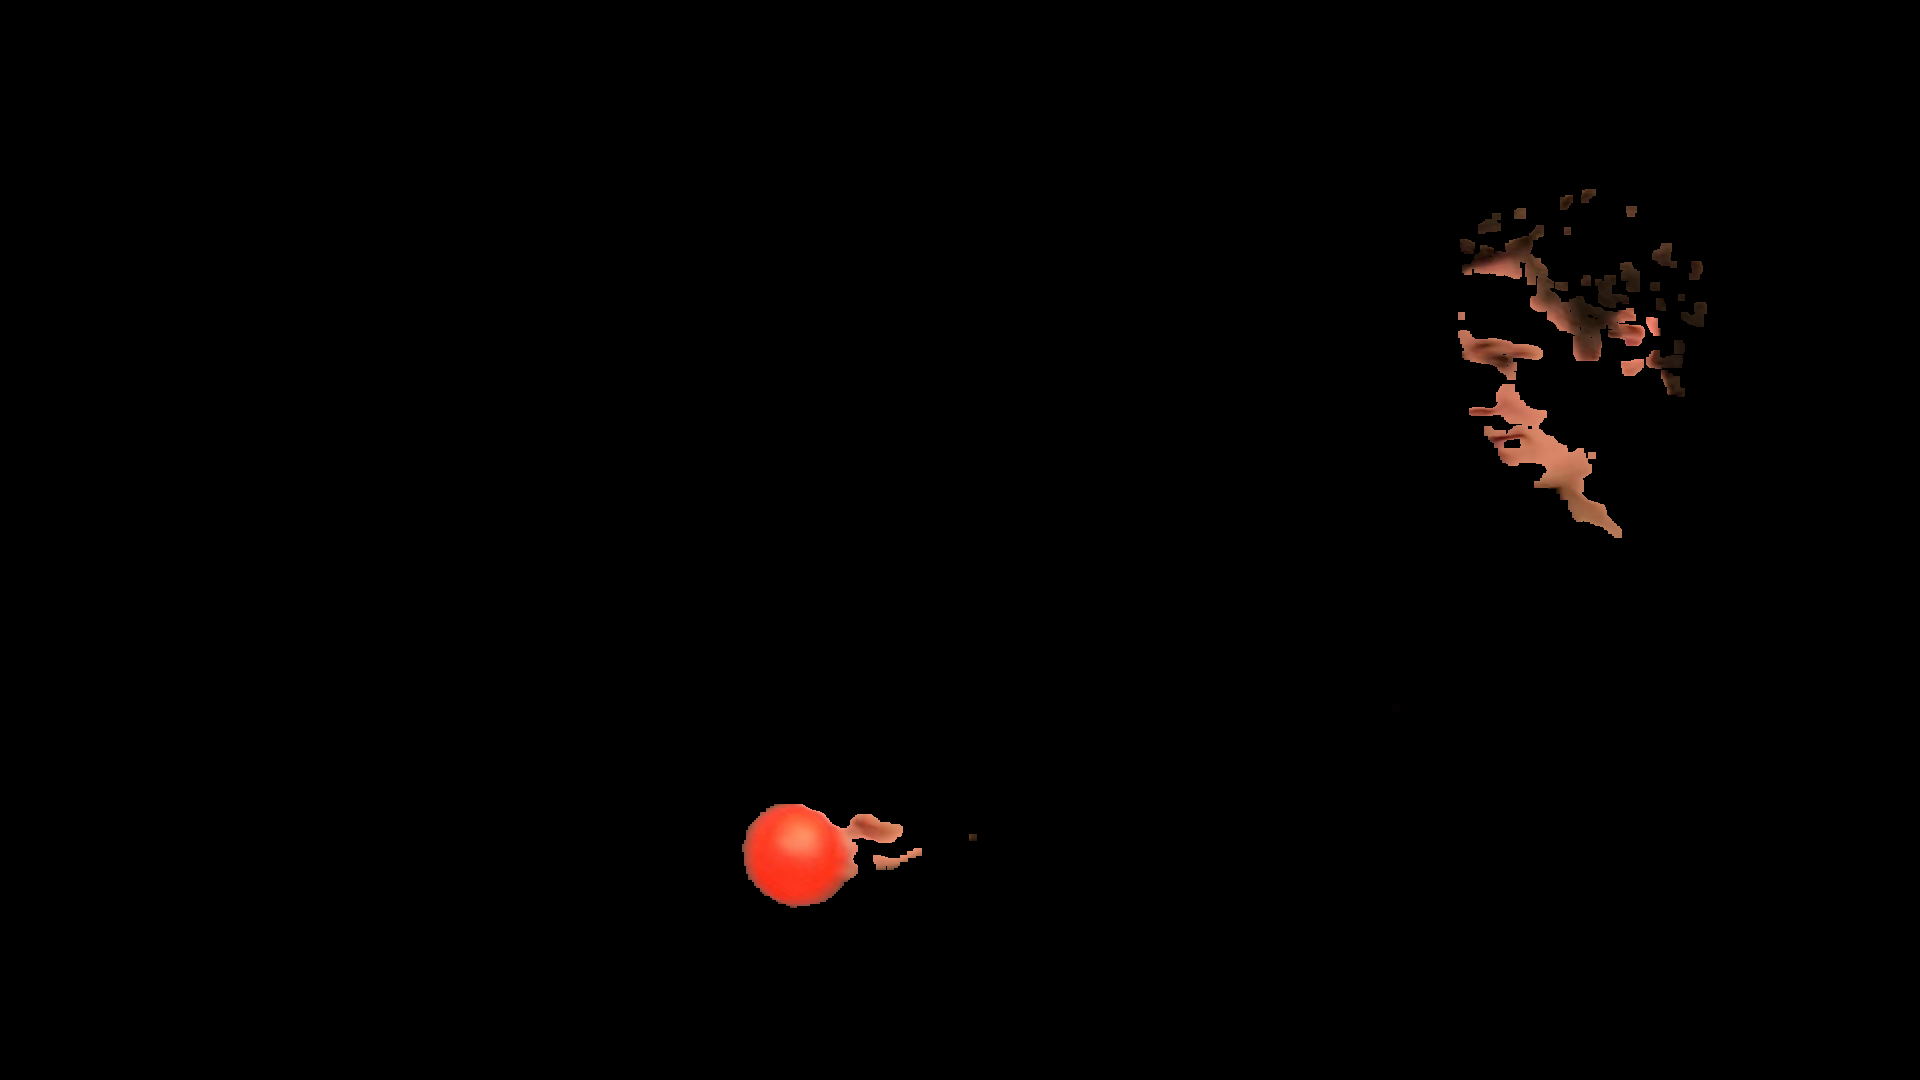Ball: (750, 807, 855, 907)
